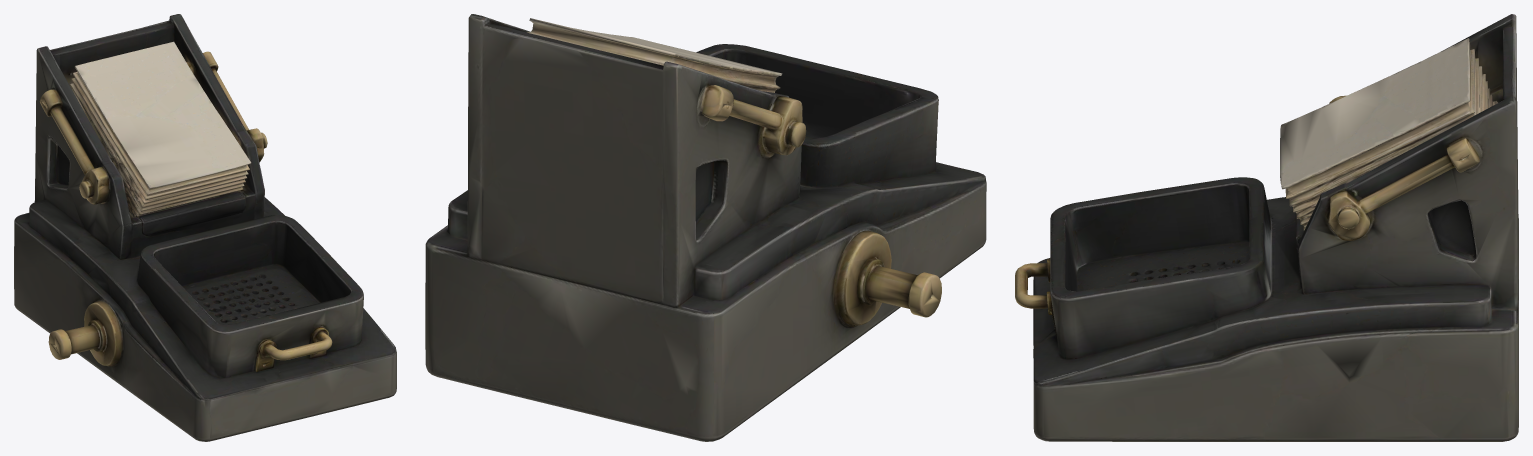
The model's file is hero-harness-output-station-v1.glb.
3 renders of one model, left to right at view 1: azimuth 30°, elevation 25°; view 2: azimuth 150°, elevation 25°; view 3: azimuth 270°, elevation 25°, orthographic. The views are drawn at different scales.
Visible parts, largest first — view 1: node_0; view 2: node_0; view 3: node_0.
Boxes of the visible parts, left/top/right/bottom form: node_0: left=14, top=14, right=396, bottom=441; node_0: left=425, top=14, right=986, bottom=441; node_0: left=1015, top=14, right=1518, bottom=441.
Size of the model in its own units: 0.6377 by 0.6069 by 0.8614.
1 material, 1 textured.
